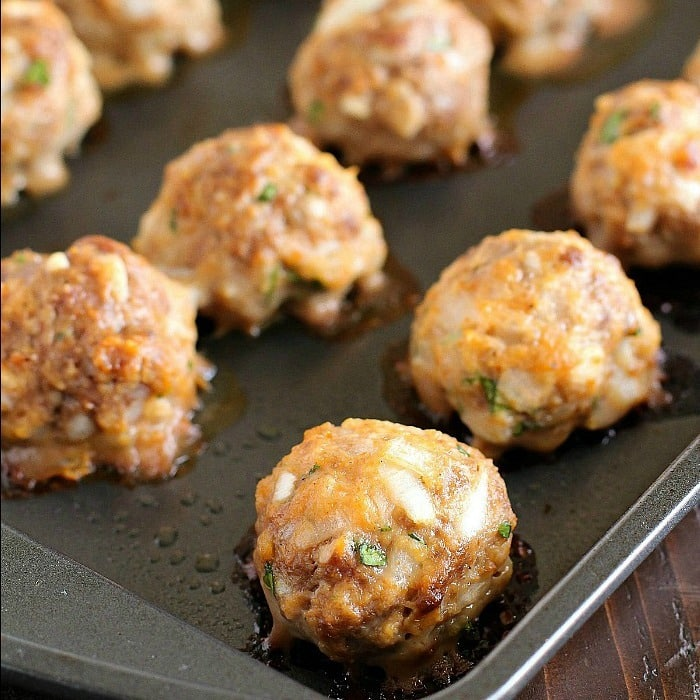meatballs: (260, 425, 498, 638), (410, 226, 651, 431), (1, 246, 200, 471), (145, 134, 359, 304), (303, 4, 490, 141), (581, 90, 700, 248)
